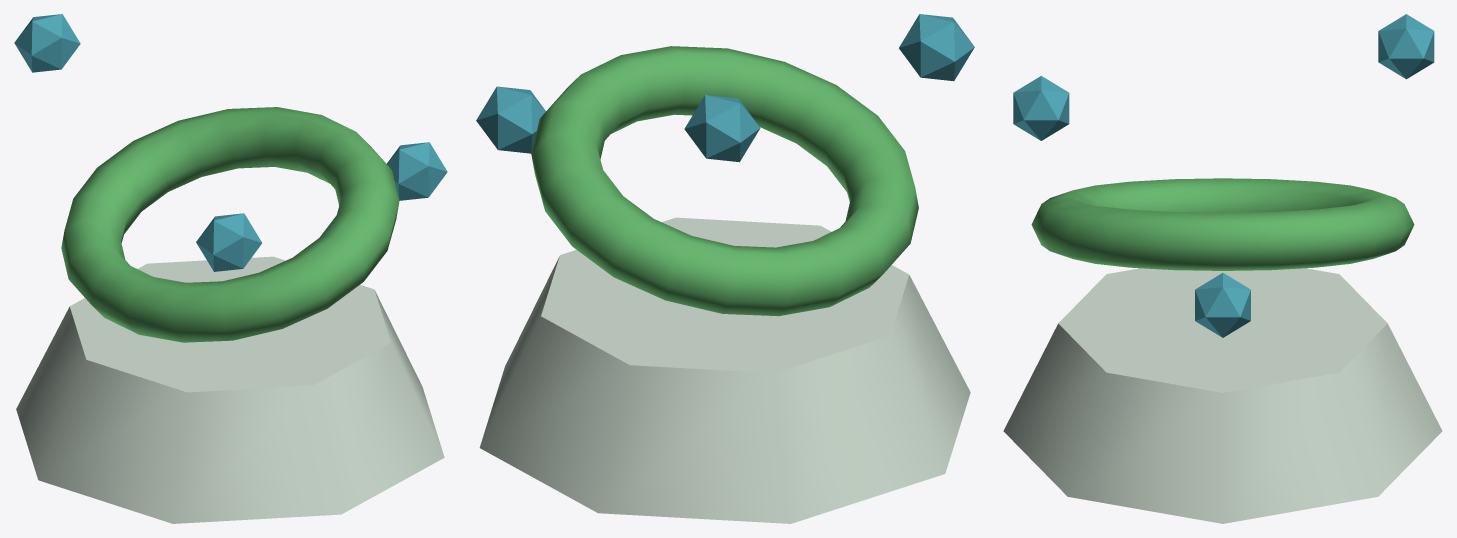
Rendered from merchant_memory.glb.
3 renders of one model, left to right at view 1: azimuth 30°, elevation 25°; view 2: azimuth 150°, elevation 25°; view 3: azimuth 270°, elevation 25°, orthographic. The views are drawn at different scales.
Visible parts, largest first — view 1: memory_pedestal, memory_symbol_merchant, memory_star_1, memory_star_2, memory_star_0; view 2: memory_pedestal, memory_symbol_merchant, memory_star_1, memory_star_2, memory_star_0; view 3: memory_pedestal, memory_symbol_merchant, memory_star_2, memory_star_1, memory_star_0.
Boxes of the visible parts, <box> form: memory_pedestal: <box>16,256,444,523</box>; memory_symbol_merchant: <box>61,107,399,342</box>; memory_star_1: <box>196,213,261,271</box>; memory_star_2: <box>14,14,80,72</box>; memory_star_0: <box>387,142,447,200</box>; memory_pedestal: <box>479,217,970,523</box>; memory_symbol_merchant: <box>531,46,918,316</box>; memory_star_1: <box>899,14,974,81</box>; memory_star_2: <box>684,95,760,162</box>; memory_star_0: <box>476,86,545,153</box>; memory_pedestal: <box>1003,268,1442,523</box>; memory_symbol_merchant: <box>1031,178,1414,270</box>; memory_star_2: <box>1378,14,1434,79</box>; memory_star_1: <box>1013,76,1069,140</box>; memory_star_0: <box>1195,273,1250,337</box>.
Size of what is drawn, in the model's own units: 2.5 by 2.21 by 2.4.
